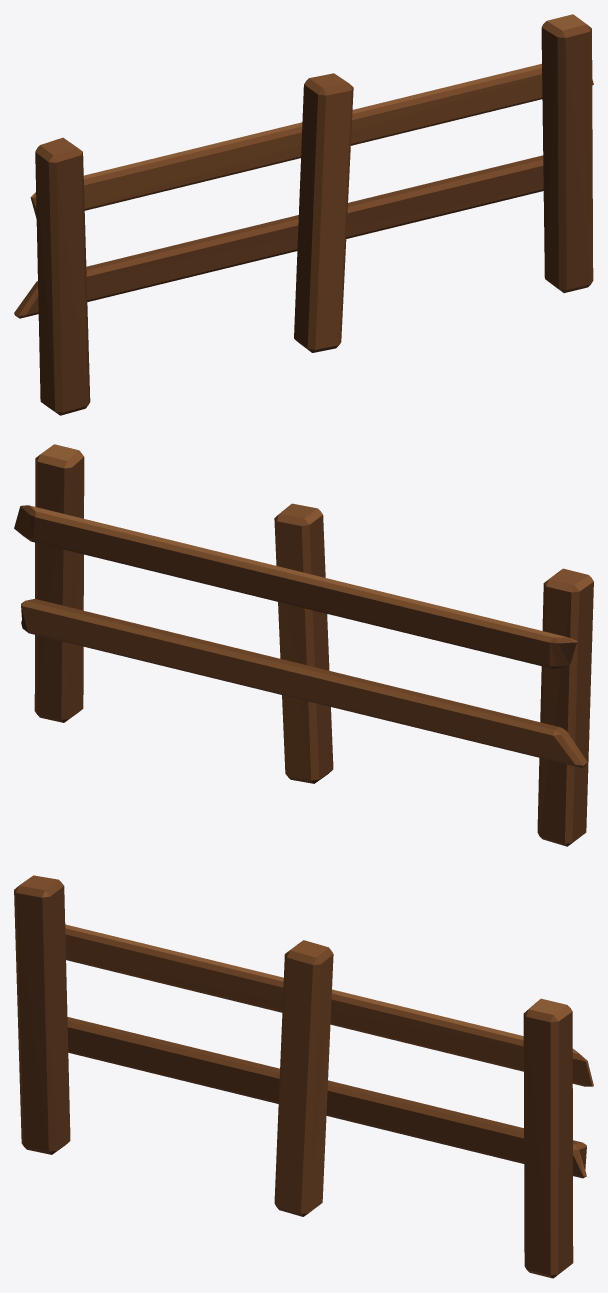
The model's file is SM_WOOD_FENCE_01.fbx.
3 views of the same model, one above another, from view 1: azimuth 30°, elevation 25°; view 2: azimuth 150°, elevation 25°; view 3: azimuth 330°, elevation 25° (orthographic).
Visible parts, largest first — view 1: WOOD_FENCE_01; view 2: WOOD_FENCE_01; view 3: WOOD_FENCE_01.
Boxes of the visible parts, box(x1,y1,x2,y2) form: WOOD_FENCE_01: box(14, 14, 593, 415); WOOD_FENCE_01: box(14, 444, 593, 846); WOOD_FENCE_01: box(14, 875, 593, 1278).
Bounding box in the file's own units: 2.29 × 0.1939 × 1.
